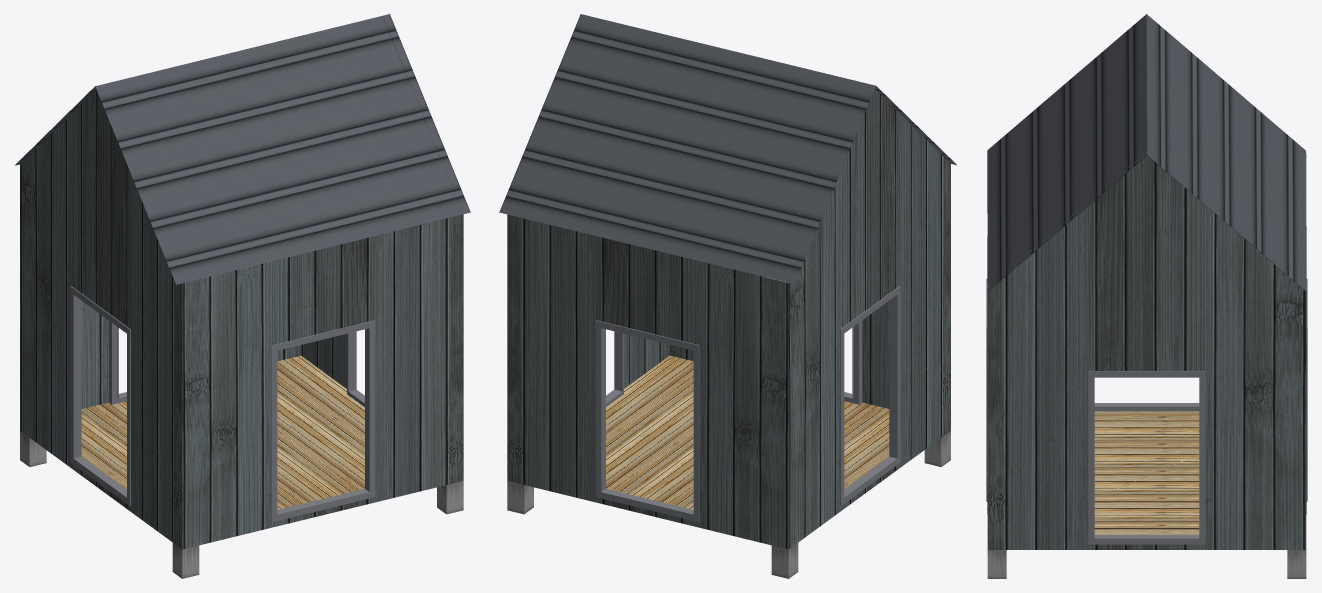
Rendered from roof-module.glb.
3 views of the same model, side by side, from view 1: azimuth 30°, elevation 25°; view 2: azimuth 150°, elevation 25°; view 3: azimuth 270°, elevation 25° (orthographic).
Visible parts, largest first — view 1: for bblneder4; view 2: for bblneder4; view 3: for bblneder4.
Part boxes in pixels (box(x1,y1,x2,y2)): for bblneder4: box(15, 14, 470, 578); for bblneder4: box(499, 14, 956, 578); for bblneder4: box(986, 14, 1307, 578).
Size of the model in its own units: 5.25 by 7.39 by 5.03.
5 materials, 4 textured.
